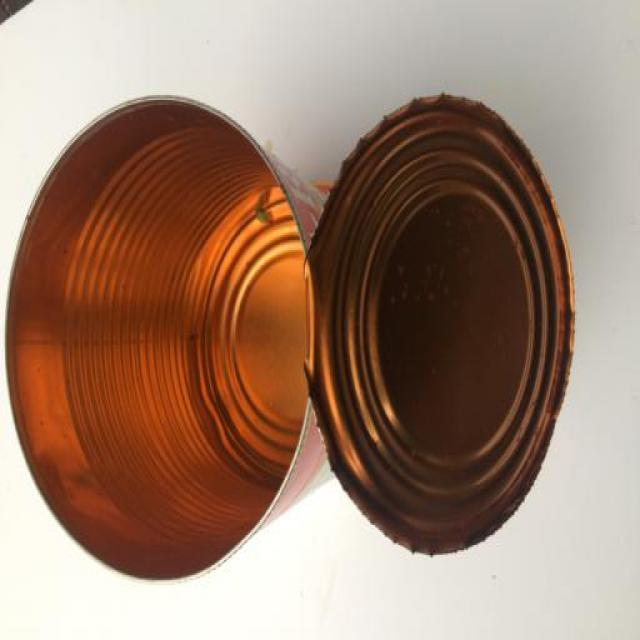metel: (5, 70, 593, 587)
